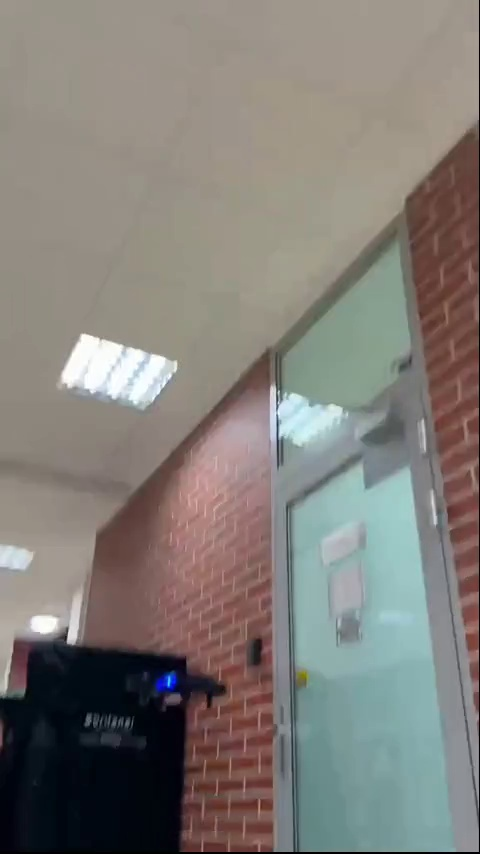drone: (129, 671, 231, 712)
